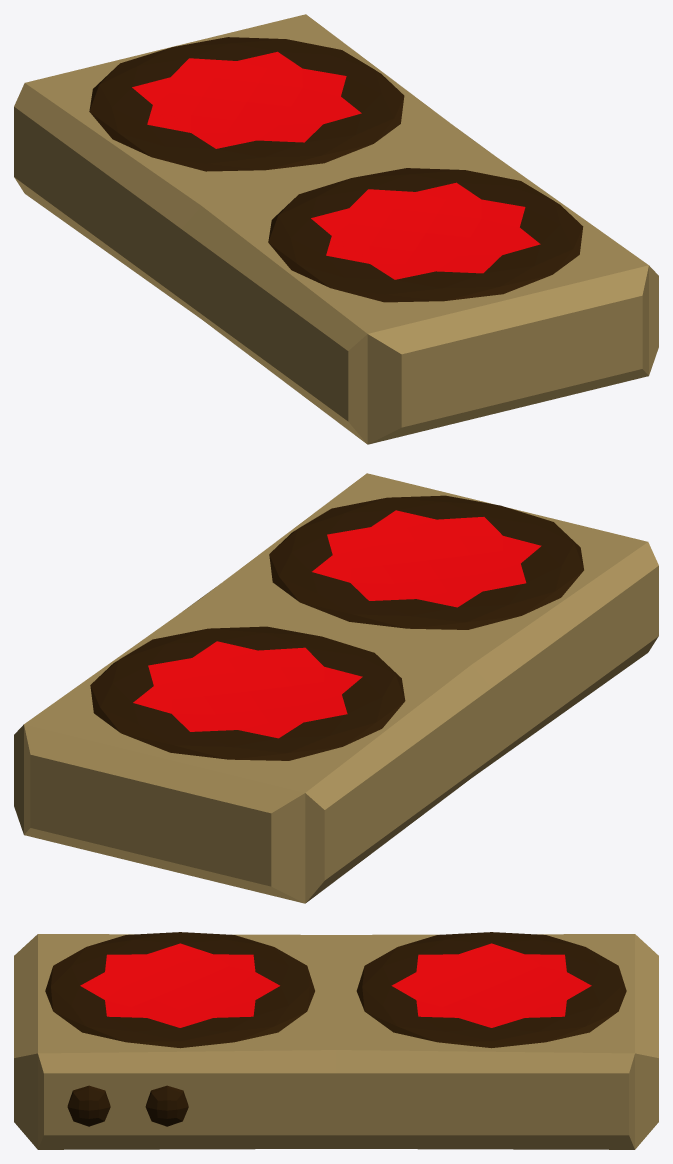
Rendered from cocina.fbx.
3 renders of one model, top to bottom at view 1: azimuth 30°, elevation 25°; view 2: azimuth 150°, elevation 25°; view 3: azimuth 270°, elevation 25°, orthographic. The views are drawn at different scales.
Parts seen in each view (by area): view 1: Base, Quemador2, Quemador1; view 2: Base, Quemador2, Quemador1; view 3: Base, Quemador1, Quemador2, Boton1, Boton2.
Part boxes in pixels (x1=…): Base: x1=14, y1=14, x2=658, y2=444; Quemador2: x1=89, y1=37, x2=404, y2=171; Quemador1: x1=268, y1=168, x2=583, y2=302; Base: x1=14, y1=473, x2=658, y2=903; Quemador2: x1=90, y1=626, x2=405, y2=760; Quemador1: x1=269, y1=495, x2=583, y2=629; Base: x1=14, y1=934, x2=658, y2=1149; Quemador1: x1=45, y1=932, x2=314, y2=1048; Quemador2: x1=356, y1=932, x2=626, y2=1048; Boton1: x1=67, y1=1085, x2=110, y2=1126; Boton2: x1=145, y1=1085, x2=188, y2=1126.
Size of the model in its own units: 2.09 by 0.7458 by 4.14.
